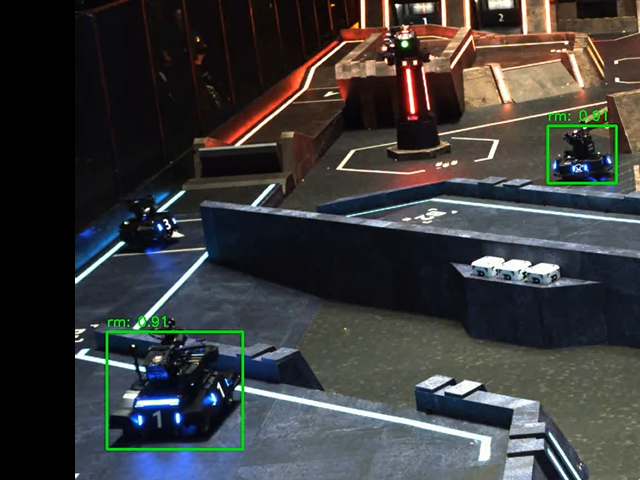rm: (111, 334, 238, 444), (553, 130, 613, 182), (118, 198, 177, 246)
